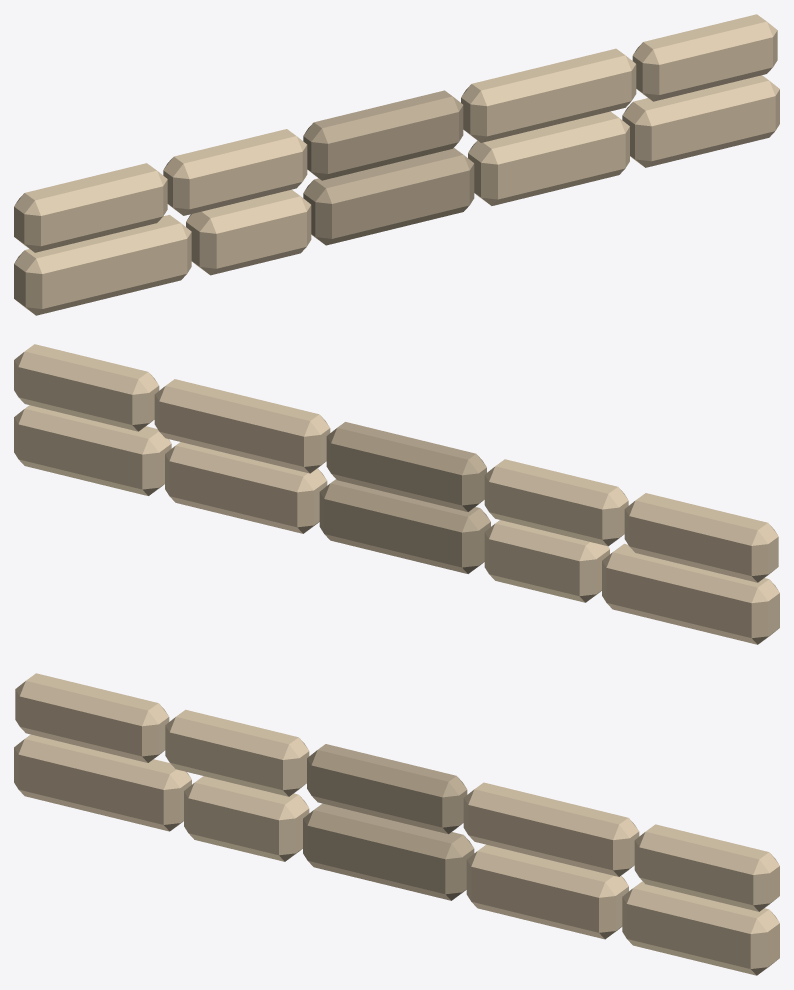
Rendered from foundation_skirt_2m.glb.
3 renders of one model, top to bottom at view 1: azimuth 30°, elevation 25°; view 2: azimuth 150°, elevation 25°; view 3: azimuth 330°, elevation 25°, orthographic.
Visible parts, largest first — view 1: foundation_skirt_2m; view 2: foundation_skirt_2m; view 3: foundation_skirt_2m.
Boxes of the visible parts, x1,y1,x2,y2 form: foundation_skirt_2m: (14, 14, 779, 315); foundation_skirt_2m: (14, 344, 779, 644); foundation_skirt_2m: (14, 673, 779, 975).
Size of the model in its own units: 1.99 by 0.288 by 0.119.
